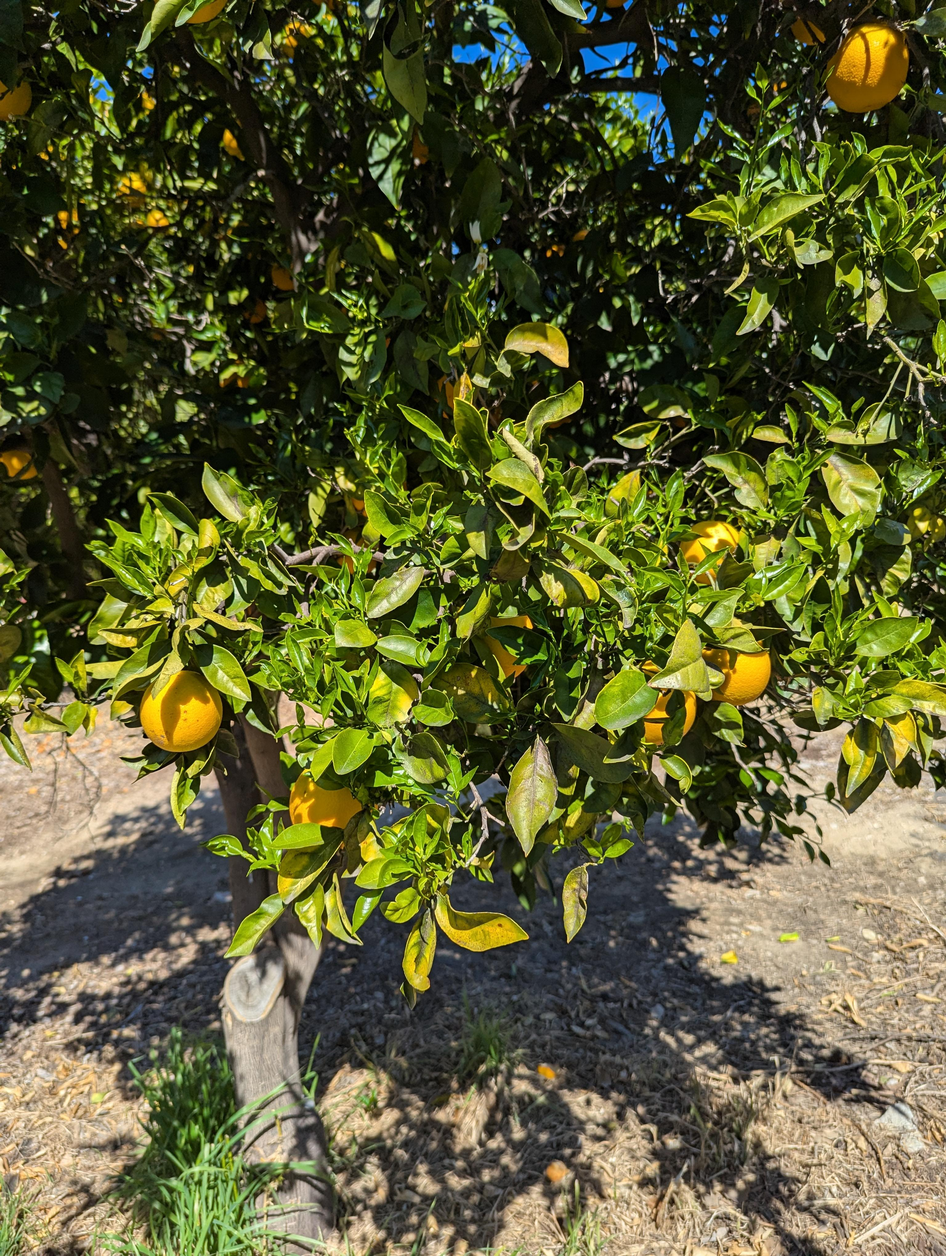orange: (825, 22, 909, 113), (289, 768, 378, 849), (139, 670, 223, 752), (638, 660, 696, 746), (701, 646, 771, 706), (680, 520, 740, 587), (484, 615, 533, 678), (336, 529, 379, 574), (154, 0, 227, 23), (0, 78, 32, 122), (0, 449, 38, 479), (790, 18, 826, 45), (434, 373, 454, 419), (283, 22, 307, 57), (223, 127, 243, 158), (272, 262, 294, 290), (245, 300, 266, 323), (351, 497, 368, 517), (606, 0, 629, 8), (572, 230, 588, 241)
